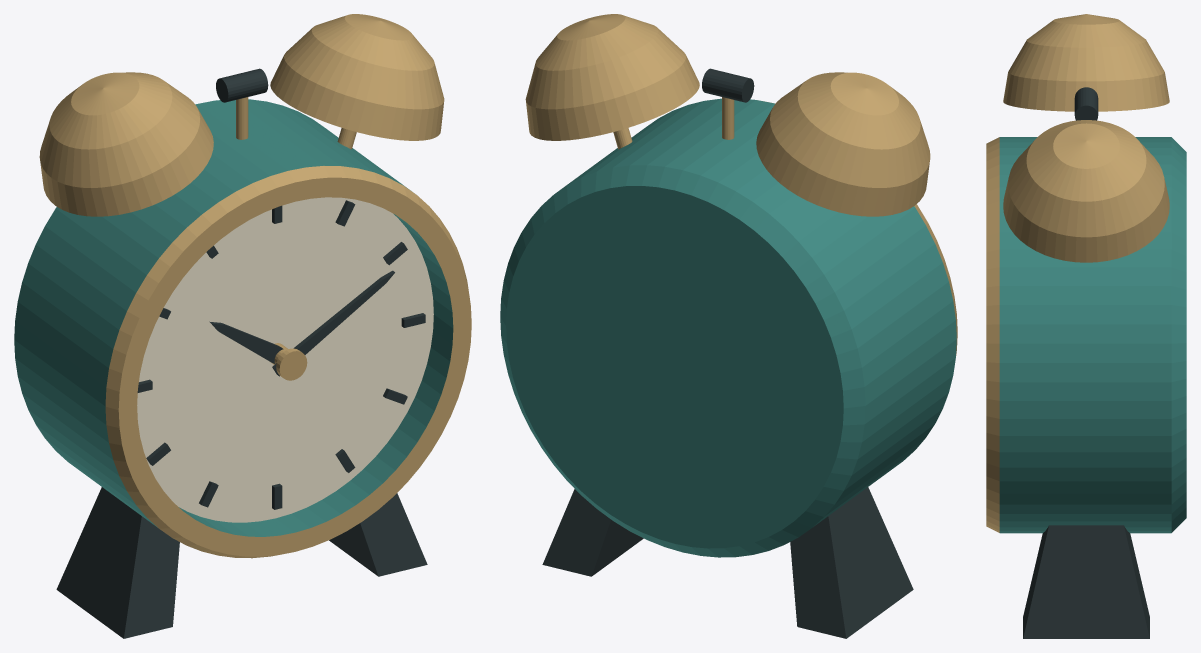
3 renders of one model, left to right at view 1: azimuth 30°, elevation 25°; view 2: azimuth 150°, elevation 25°; view 3: azimuth 270°, elevation 25°, orthographic. The views are drawn at different scales.
Parts seen in each view (by area): view 1: Case_DeepClosedBackShell, Dial_RecessedIvoryFace, Bell_Left_TrueHollowDome, Bell_Right_TrueHollowDome, Foot_Left_SplayedFlat, Foot_Right_SplayedFlat, Hands_FixedMinute, Hammer_FixedCrossHead, Hands_FixedHour, Hands_FrontHubCap; view 2: Case_DeepClosedBackShell, Bell_Left_TrueHollowDome, Bell_Right_TrueHollowDome, Foot_Left_SplayedFlat, Foot_Right_SplayedFlat, Hammer_FixedCrossHead; view 3: Case_DeepClosedBackShell, Bell_Right_TrueHollowDome, Foot_Right_SplayedFlat, Bell_Left_TrueHollowDome, Hammer_FixedCrossHead.
Boxes of the visible parts, box(x1,y1,x2,y2) form: Case_DeepClosedBackShell: box(14, 99, 471, 558); Dial_RecessedIvoryFace: box(137, 197, 433, 522); Bell_Left_TrueHollowDome: box(39, 72, 213, 216); Bell_Right_TrueHollowDome: box(270, 14, 444, 140); Foot_Left_SplayedFlat: box(56, 487, 179, 638); Foot_Right_SplayedFlat: box(329, 493, 427, 576); Hands_FixedMinute: box(272, 270, 394, 376); Hammer_FixedCrossHead: box(216, 68, 268, 102); Hands_FixedHour: box(209, 321, 283, 363); Hands_FrontHubCap: box(276, 348, 307, 380); Case_DeepClosedBackShell: box(500, 98, 957, 557); Bell_Left_TrueHollowDome: box(756, 72, 930, 216); Bell_Right_TrueHollowDome: box(525, 14, 699, 140); Foot_Left_SplayedFlat: box(790, 487, 913, 638); Foot_Right_SplayedFlat: box(542, 489, 643, 576); Hammer_FixedCrossHead: box(702, 68, 754, 102); Case_DeepClosedBackShell: box(986, 137, 1186, 533); Bell_Right_TrueHollowDome: box(1003, 120, 1169, 262); Foot_Right_SplayedFlat: box(1023, 525, 1149, 638); Bell_Left_TrueHollowDome: box(1003, 14, 1169, 111); Hammer_FixedCrossHead: box(1074, 87, 1098, 120).
Bounding box in the file's own units: 0.2485 × 0.3278 × 0.12.
